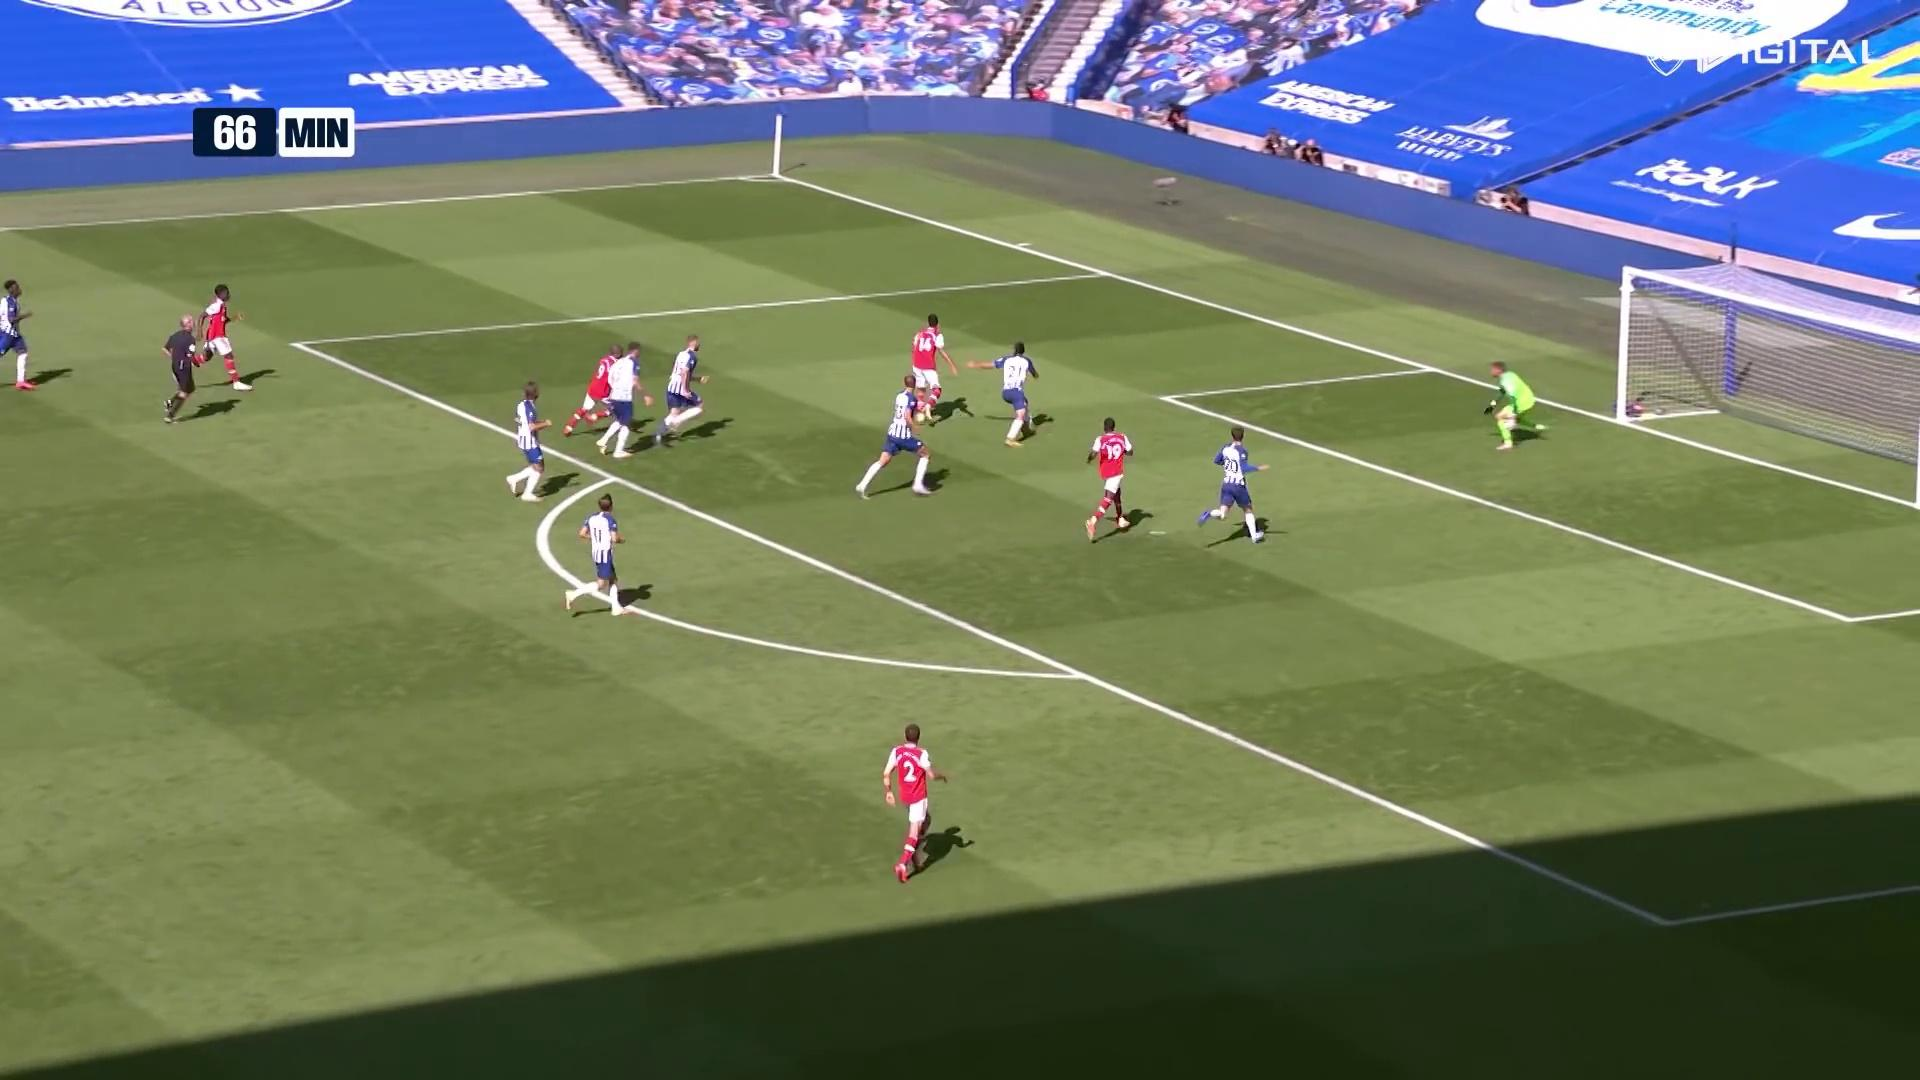ball: (911, 408, 929, 429)
goalkeeper: (1479, 358, 1557, 458)
player: (879, 722, 953, 886), (852, 371, 937, 503), (562, 489, 637, 621), (1197, 422, 1276, 546), (171, 279, 255, 393), (963, 336, 1044, 449), (594, 338, 657, 462), (654, 329, 715, 452), (1082, 413, 1137, 547), (560, 342, 634, 441), (503, 377, 556, 506), (907, 309, 961, 428), (0, 276, 43, 394)
referee: (159, 312, 206, 429)
